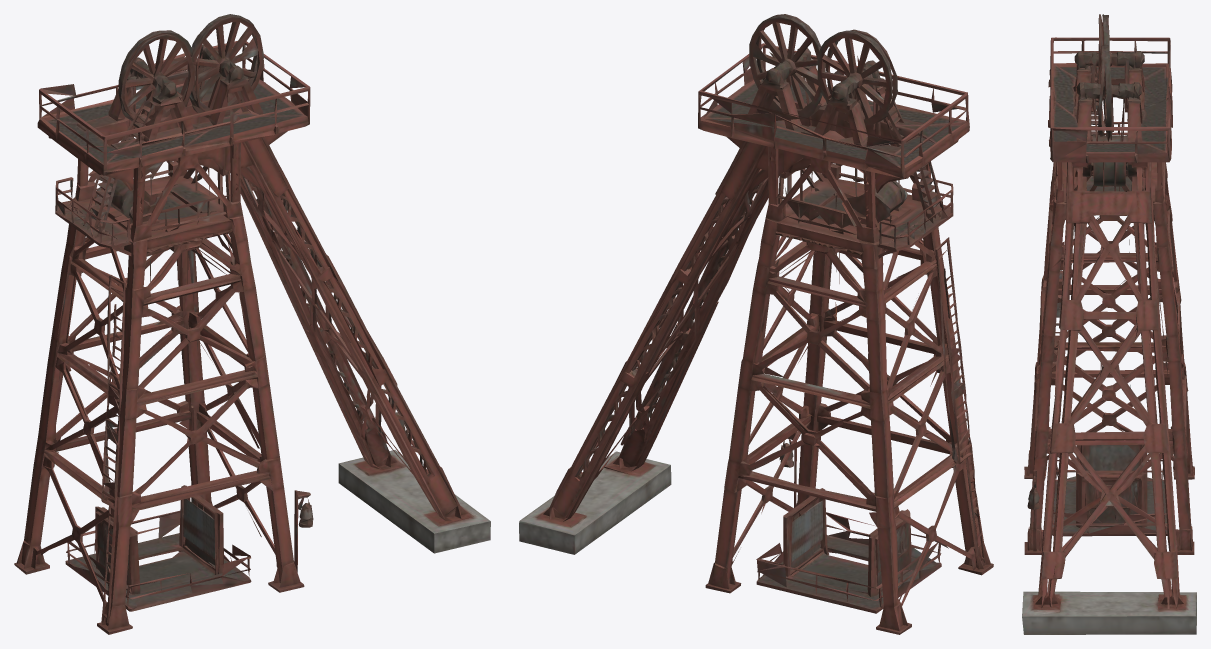
File: lattice_headframe_strut.glb
3 renders of one model, left to right at view 1: azimuth 30°, elevation 25°; view 2: azimuth 150°, elevation 25°; view 3: azimuth 270°, elevation 25°, orthographic. The views are drawn at different scales.
Visible parts, largest first — view 1: main; view 2: main; view 3: main.
Boxes of the visible parts, x1,y1,x2,y2 form: main: (14, 14, 490, 634); main: (519, 14, 993, 634); main: (1022, 14, 1196, 634).
Bounding box in the file's own units: 10.23 × 14 × 4.51.
1 material, 1 textured.
